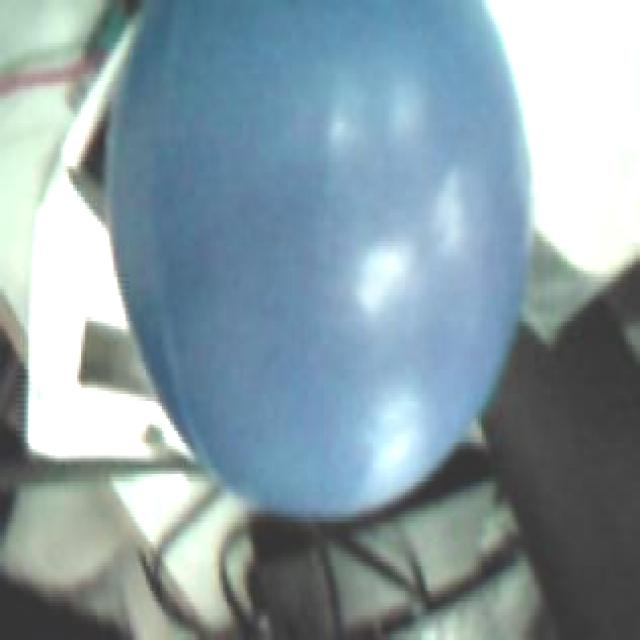BallPurple: (109, 4, 526, 520)
